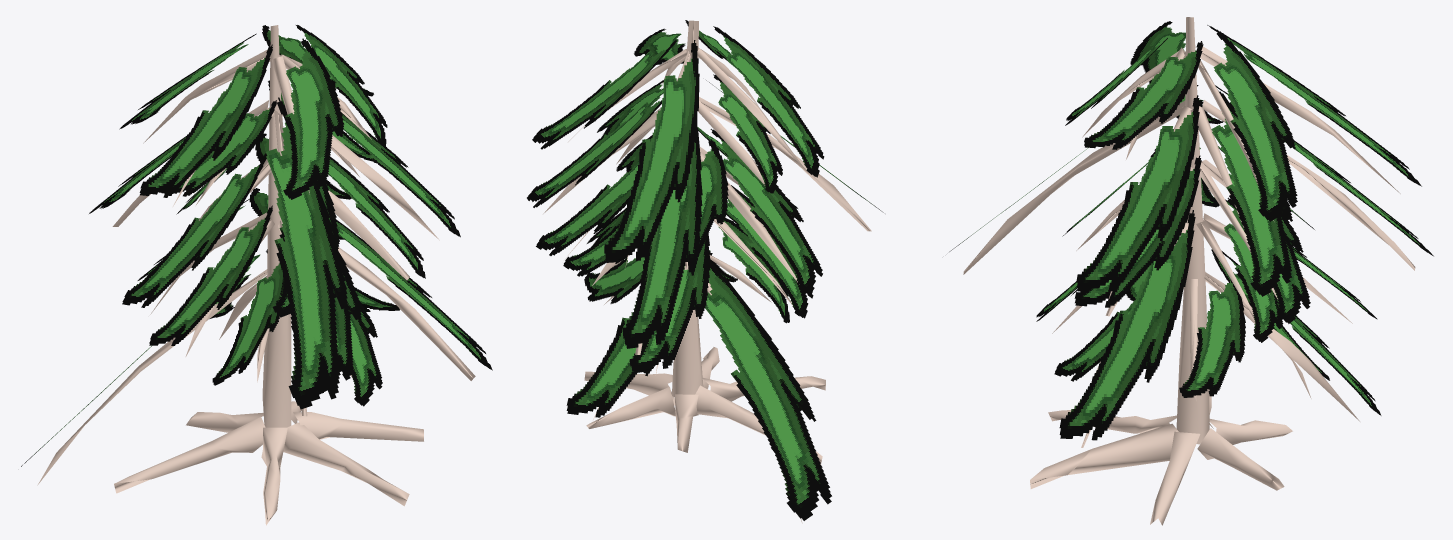
Rendered from crowned_pine_02_lod-decimate-90.glb.
3 renders of one model, left to right at view 1: azimuth 30°, elevation 25°; view 2: azimuth 150°, elevation 25°; view 3: azimuth 270°, elevation 25°, orthographic. The views are drawn at different scales.
Visible parts, largest first — view 1: crowned_pine_02; view 2: crowned_pine_02; view 3: crowned_pine_02.
Boxes of the visible parts, x1,y1,x2,y2 form: crowned_pine_02: [21, 25, 492, 525]; crowned_pine_02: [527, 20, 883, 523]; crowned_pine_02: [949, 17, 1433, 525].
Size of the model in its own units: 5.91 by 6.3 by 6.26.
Materials: 2 (1 with a texture image).
